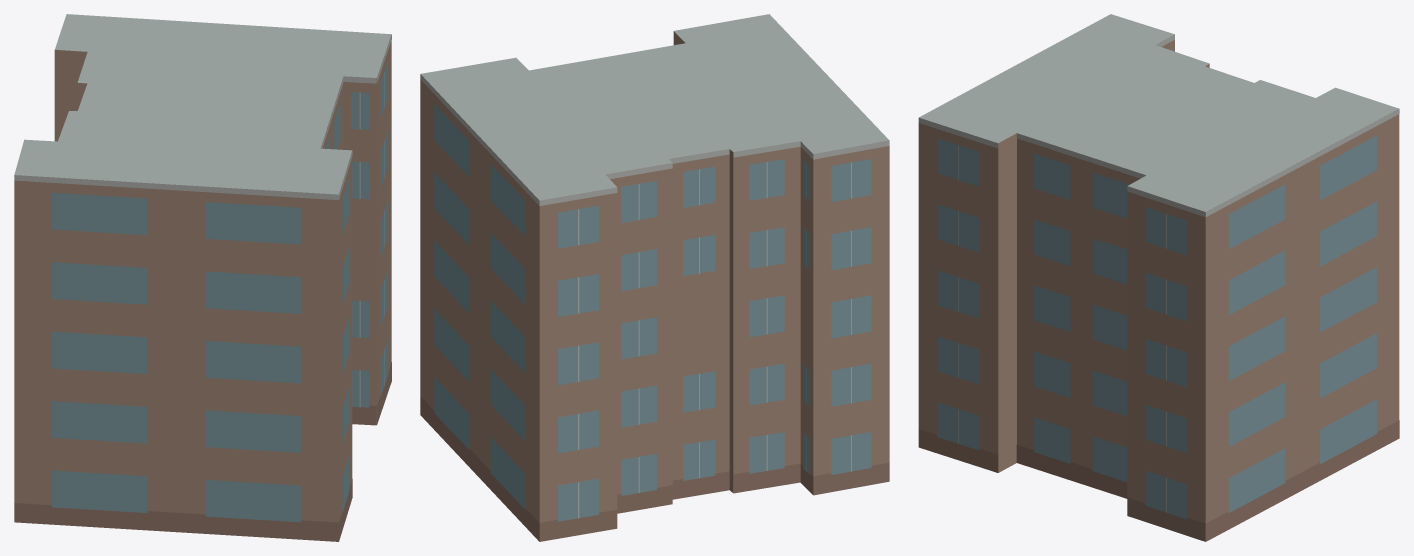
The model's file is survey-upis-32804619.glb.
3 views of the same model, side by side, from view 1: azimuth 30°, elevation 25°; view 2: azimuth 150°, elevation 25°; view 3: azimuth 270°, elevation 25° (orthographic). The views are drawn at different scales.
Parts seen in each view (by area): view 1: survey-upis-32804619.tmp; view 2: survey-upis-32804619.tmp; view 3: survey-upis-32804619.tmp.
Boxes of the visible parts, box(x1,y1,x2,y2) form: survey-upis-32804619.tmp: box(14, 14, 391, 541); survey-upis-32804619.tmp: box(420, 14, 889, 541); survey-upis-32804619.tmp: box(918, 14, 1399, 541).
Bounding box in the file's own units: 19.65 × 15.25 × 20.16.
